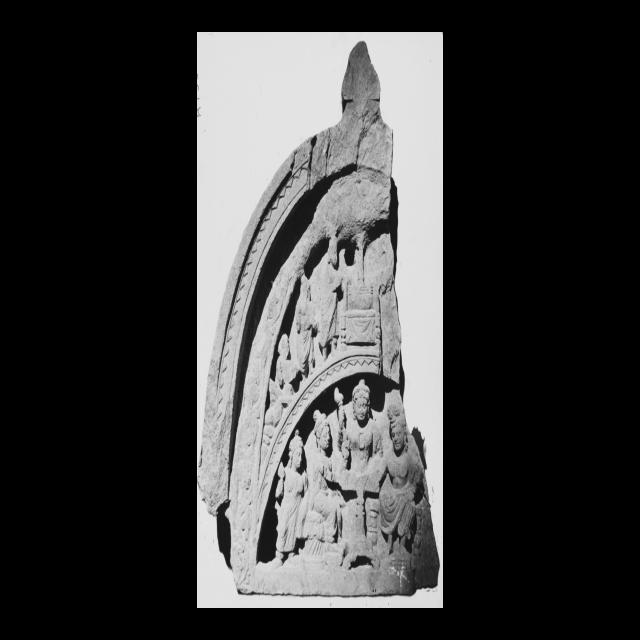buddha-sitting: (332, 380, 387, 495)
